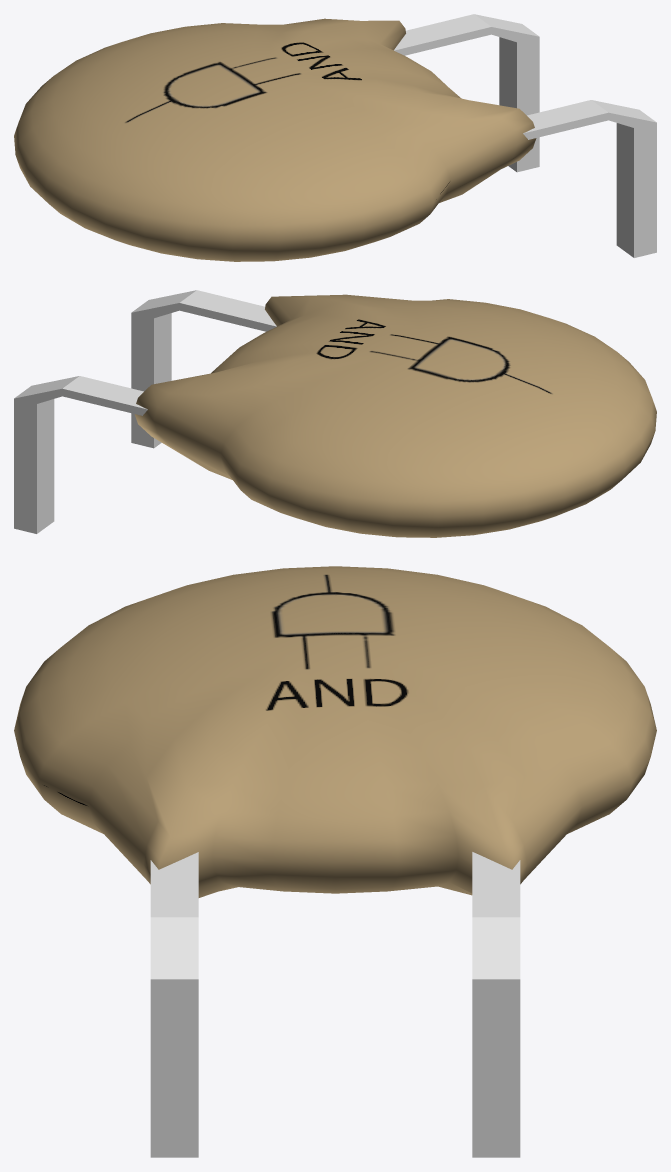
File: AND(sin patas).fbx
The picture shows the model from 3 angles, top to bottom: view 1: azimuth 30°, elevation 25°; view 2: azimuth 150°, elevation 25°; view 3: azimuth 270°, elevation 25°; orthographic projection. The views are drawn at different scales.
Visible parts, largest first — view 1: Sphere; view 2: Sphere; view 3: Sphere.
Boxes of the visible parts, left/top/right/bottom form: Sphere: left=14, top=14, right=656, bottom=261; Sphere: left=14, top=290, right=656, bottom=537; Sphere: left=14, top=566, right=656, bottom=1157.
Size of the model in its own units: 268 by 99.85 by 200.
